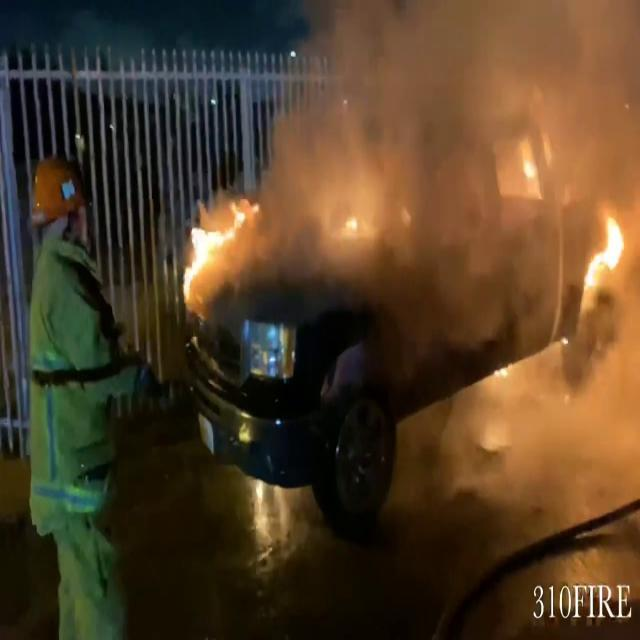Fire: (180, 190, 252, 298), (572, 205, 633, 295)
Smoke: (254, 0, 640, 250)
